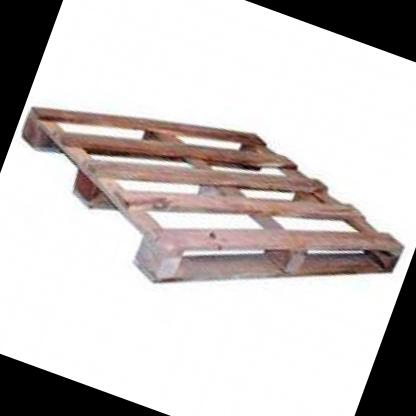BoxFace: (18, 100, 405, 287)
